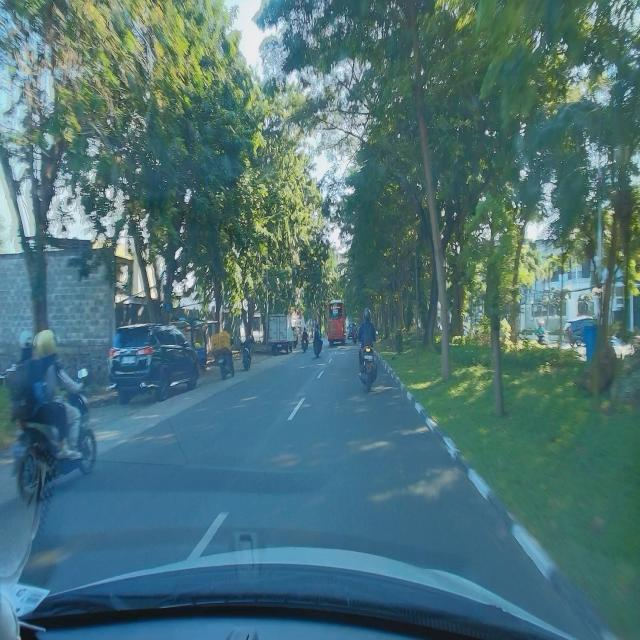bus: (328, 298, 346, 347)
car: (104, 321, 200, 407)
truck: (268, 313, 294, 355)
